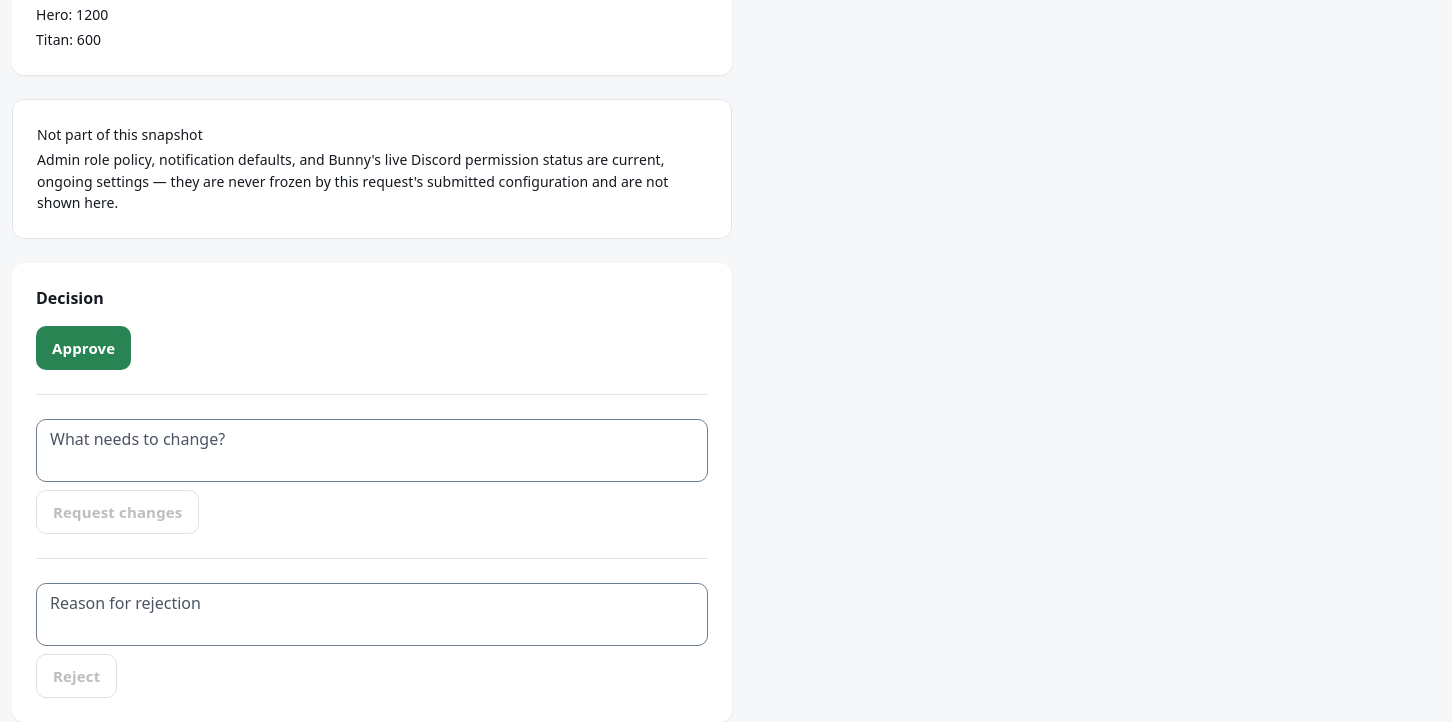
Test: ActivationRequestReviewScreen › Reject requires a non-empty reason before the button is enabled, then posts it and shows the decided state
This screenshot has width=1452, height=722.
(page scrolled)
Check: the button with test id "reject-submit" is disabled, box x1=36 y1=654 x2=117 y2=698
Type "Not enough info" into the text box labelled "Reason for rejection".
click(372, 615); type("Not enough info")  # box x1=50 y1=592 x2=694 y2=638
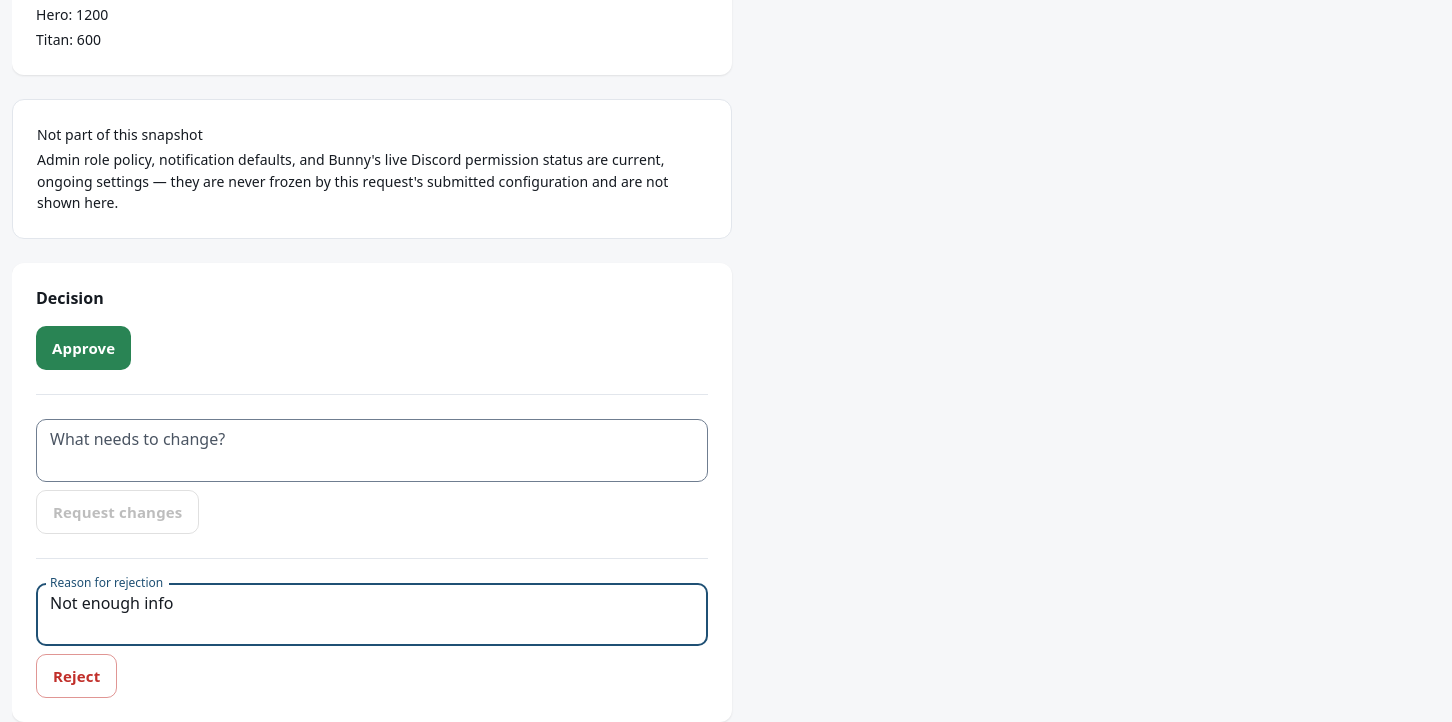
Check: the button with test id "reject-submit" is enabled
Click the button with test id "reject-submit".
click(77, 676)  # box x1=36 y1=654 x2=117 y2=698
(page scrolled)
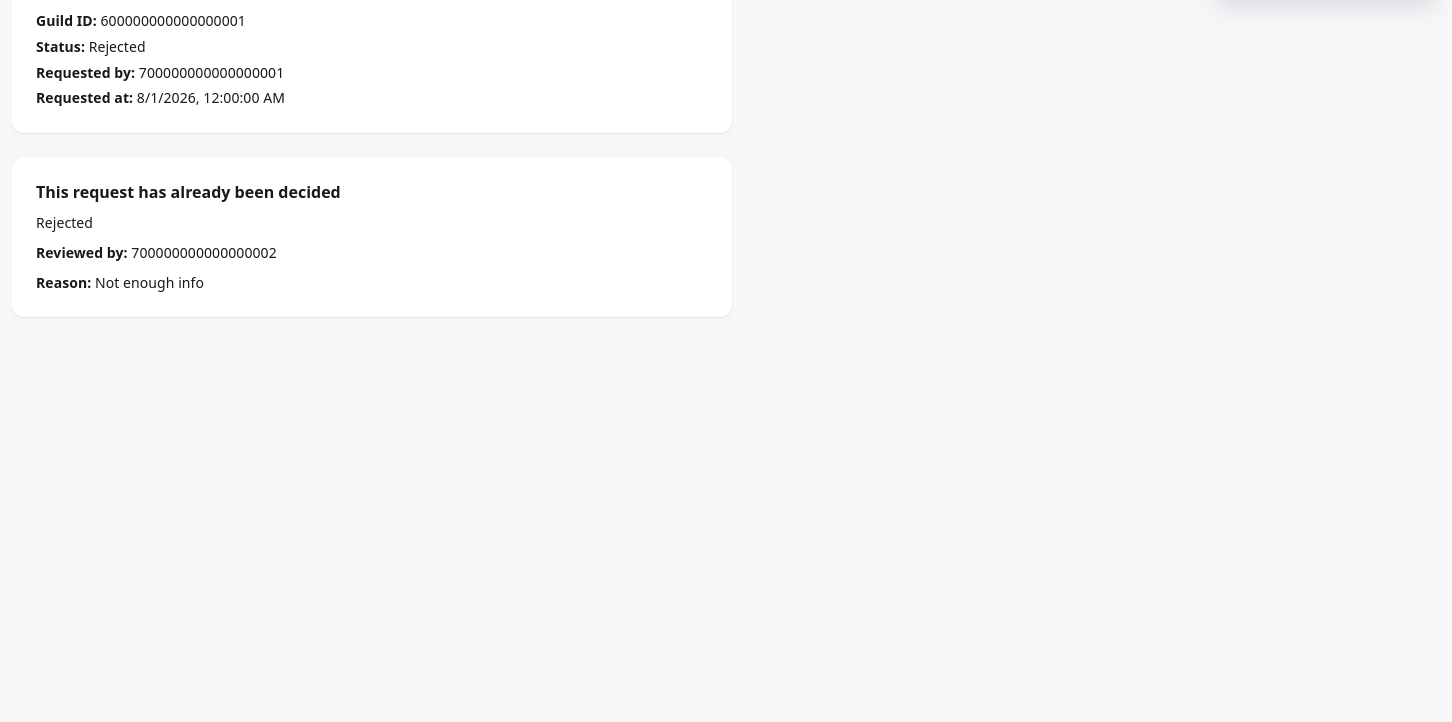
Check: the message with test id "already-decided" is shown, box x1=12 y1=157 x2=732 y2=317
